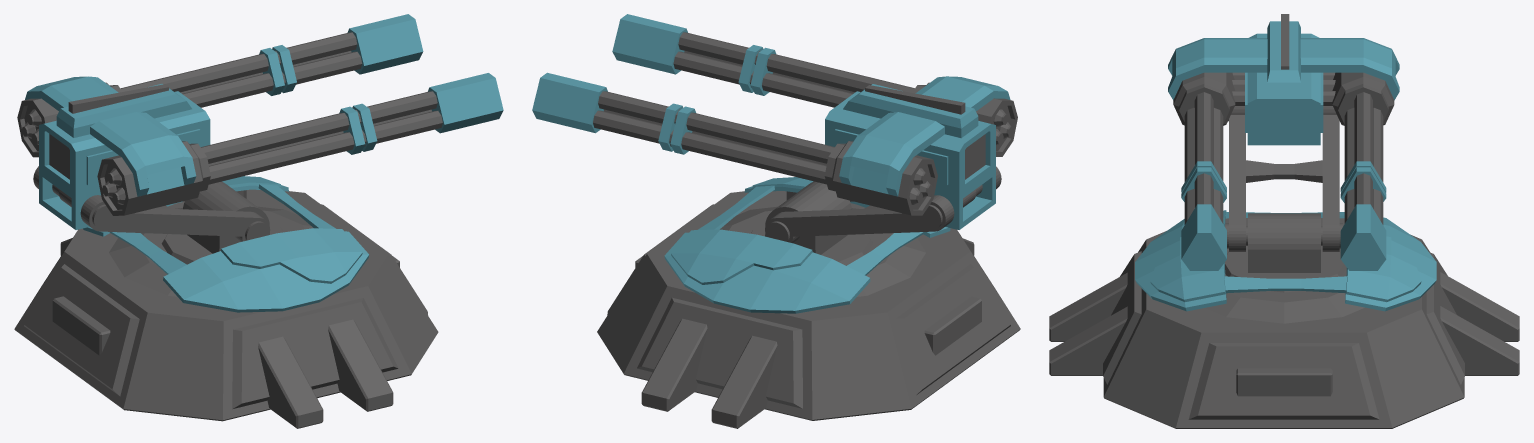
Rendered from Turret2Animation.fbx.
The picture shows the model from 3 angles, left to right: view 1: azimuth 30°, elevation 25°; view 2: azimuth 150°, elevation 25°; view 3: azimuth 270°, elevation 25°; orthographic projection.
Visible parts, largest first — view 1: Cube.003, Cube.029, Cube.021, Cube.010, Cube.002, Cube.023; view 2: Cube.003, Cube.029, Cube.021, Cube.002, Cube.010, Cube.023; view 3: Cube.003, Cube.021, Cube.029, Cube.002, Cube.010, Cube.023.
Boxes of the visible parts, x1=… form: Cube.003: x1=14, y1=189, x2=438, y2=428; Cube.029: x1=17, y1=76, x2=210, y2=229; Cube.021: x1=83, y1=176, x2=369, y2=312; Cube.010: x1=102, y1=73, x2=503, y2=204; Cube.002: x1=22, y1=14, x2=423, y2=144; Cube.023: x1=33, y1=166, x2=270, y2=241; Cube.003: x1=597, y1=191, x2=1020, y2=428; Cube.029: x1=824, y1=76, x2=1017, y2=229; Cube.021: x1=664, y1=177, x2=950, y2=313; Cube.002: x1=532, y1=72, x2=932, y2=204; Cube.010: x1=612, y1=14, x2=1013, y2=144; Cube.023: x1=765, y1=166, x2=1001, y2=243; Cube.003: x1=1049, y1=218, x2=1519, y2=428; Cube.021: x1=1135, y1=210, x2=1436, y2=323; Cube.029: x1=1168, y1=14, x2=1399, y2=145; Cube.002: x1=1340, y1=92, x2=1386, y2=270; Cube.010: x1=1181, y1=92, x2=1226, y2=270; Cube.023: x1=1225, y1=106, x2=1342, y2=251.
Bounding box in the file's own units: 191 × 123 × 199.
